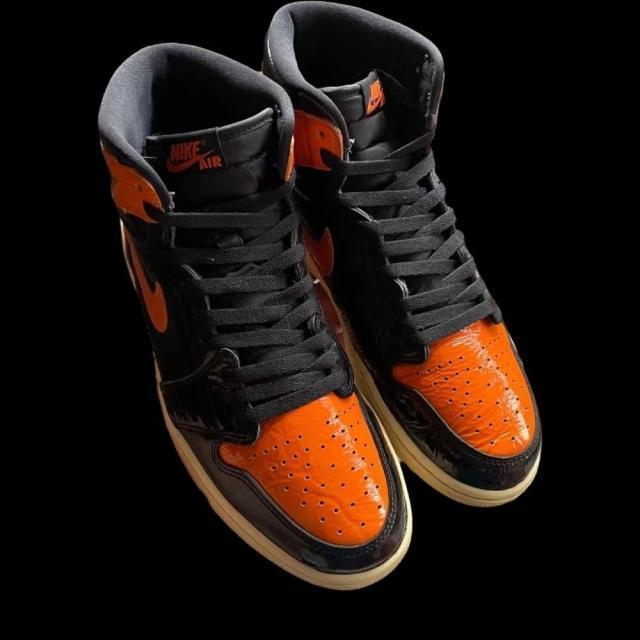nike original jordan 1: (96, 41, 428, 594), (262, 2, 558, 510)
